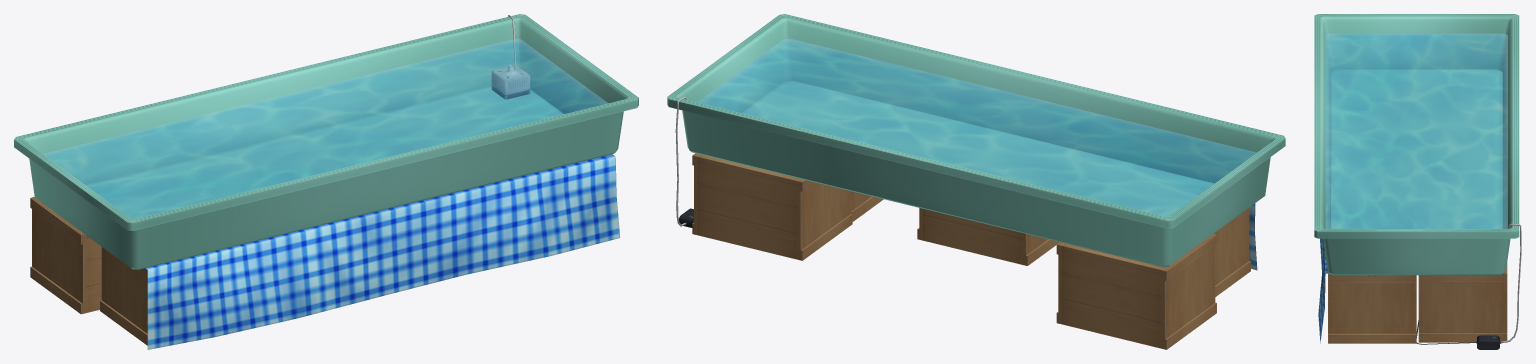
The model's file is jsf_Aquarium_02.fbx.
3 views of the same model, side by side, from view 1: azimuth 30°, elevation 25°; view 2: azimuth 150°, elevation 25°; view 3: azimuth 270°, elevation 25° (orthographic). The views are drawn at different scales.
Visible parts, largest first — view 1: Aquarium, Watersurface, BlindfoldCloth_02, WoodenBox_05, WoodenBox_04, Airpump; view 2: Aquarium, Watersurface, WoodenBox_05, WoodenBox_01, WoodenBox_02, WoodenBox_04, Airpump, WoodenBox_03; view 3: Aquarium, Watersurface, WoodenBox_03, WoodenBox_01, Airpump, BlindfoldCloth_02.
Part boxes in pixels (x1,y1,x2,y2): Aquarium: (14,14,638,269); Watersurface: (43,39,607,218); BlindfoldCloth_02: (145,154,620,349); WoodenBox_05: (30,197,101,314); WoodenBox_04: (100,247,147,345); Airpump: (491,15,530,99); Aquarium: (667,14,1285,267); Watersurface: (697,38,1256,216); WoodenBox_05: (1056,233,1216,349); WoodenBox_01: (692,153,852,260); WoodenBox_02: (917,208,1059,265); WoodenBox_04: (1214,208,1250,296); Airpump: (675,97,693,227); WoodenBox_03: (851,191,883,221); Aquarium: (1314,14,1519,275); Watersurface: (1325,33,1507,228); WoodenBox_03: (1328,273,1416,343); WoodenBox_01: (1418,262,1507,342); Airpump: (1416,223,1521,349); BlindfoldCloth_02: (1318,238,1329,343).
Size of the model in its own units: 201 by 52.25 by 80.91.
